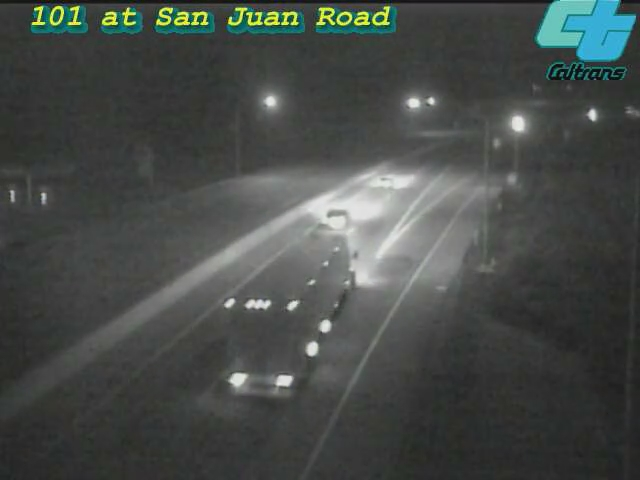vehicle: (348, 140, 428, 220), (297, 178, 377, 258), (262, 250, 342, 330), (494, 99, 544, 149), (568, 89, 618, 139)
